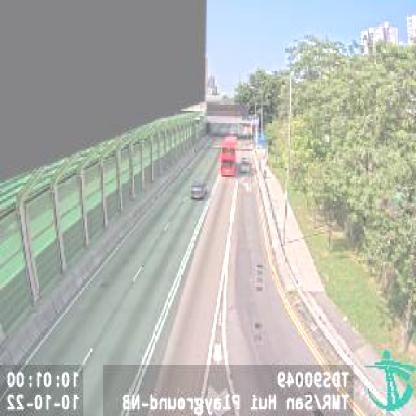Bus: (220, 136, 238, 176)
Car: (191, 179, 208, 198)
